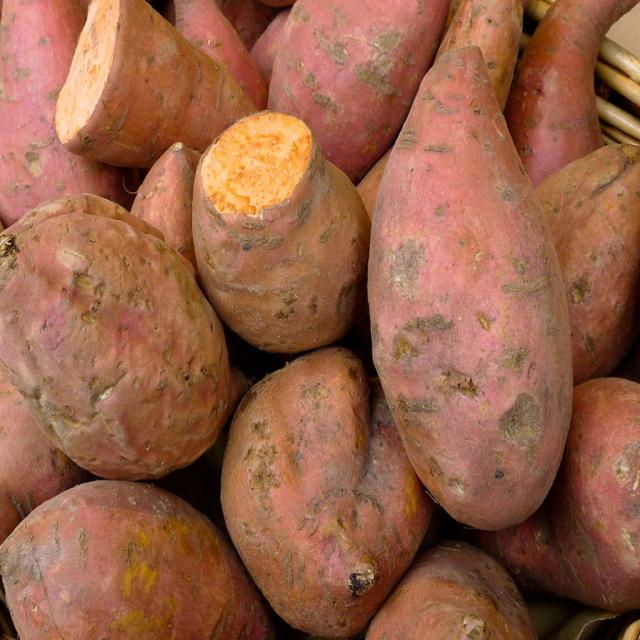Sweet Potato: (369, 43, 574, 530), (0, 198, 190, 476), (228, 352, 382, 633), (196, 110, 367, 343), (0, 478, 222, 639)
